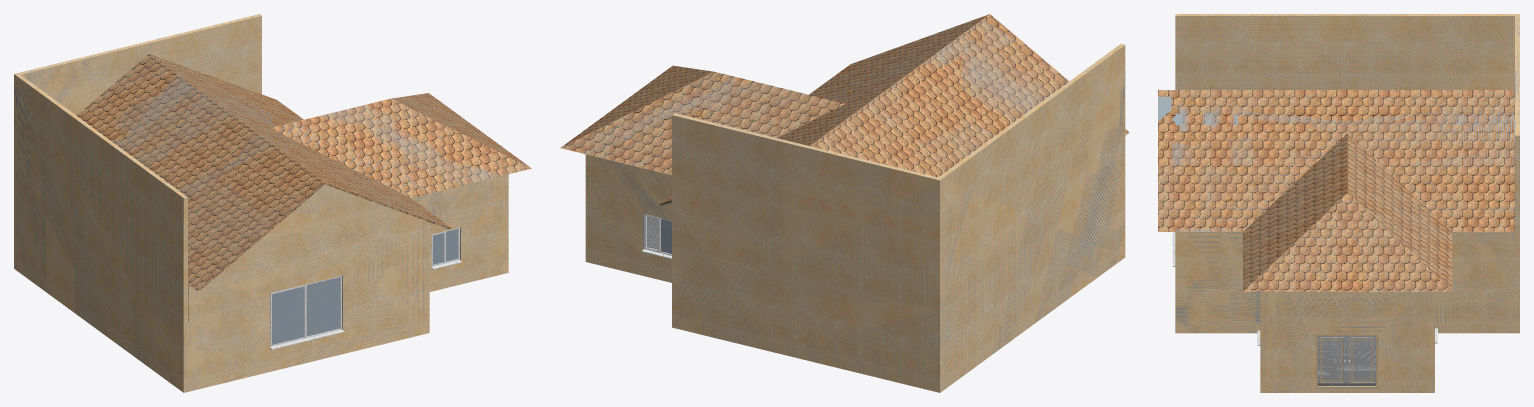
Rendered from casinhamaterialSketch.dae.
3 views of the same model, side by side, from view 1: azimuth 30°, elevation 25°; view 2: azimuth 150°, elevation 25°; view 3: azimuth 270°, elevation 25° (orthographic). The views are drawn at different scales.
Visible parts, largest first — view 1: SketchUp (×6); view 2: SketchUp (×2); view 3: SketchUp (×4).
Boxes of the visible parts, <box> form: SketchUp (×6): <box>14,14,531,392</box>; SketchUp (×2): <box>560,14,1129,392</box>; SketchUp (×4): <box>1158,14,1519,392</box>.
Size of the model in its own units: 101 by 81.44 by 49.05.
Materials: 13 (6 with a texture image).
